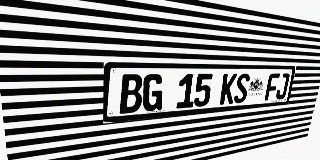1: (176, 74, 196, 109)
5: (193, 74, 213, 107)
B: (120, 74, 143, 114)
F: (264, 73, 280, 101)
G: (142, 74, 164, 112)
J: (275, 73, 290, 100)
K: (219, 74, 237, 105)
S: (233, 73, 250, 103)
